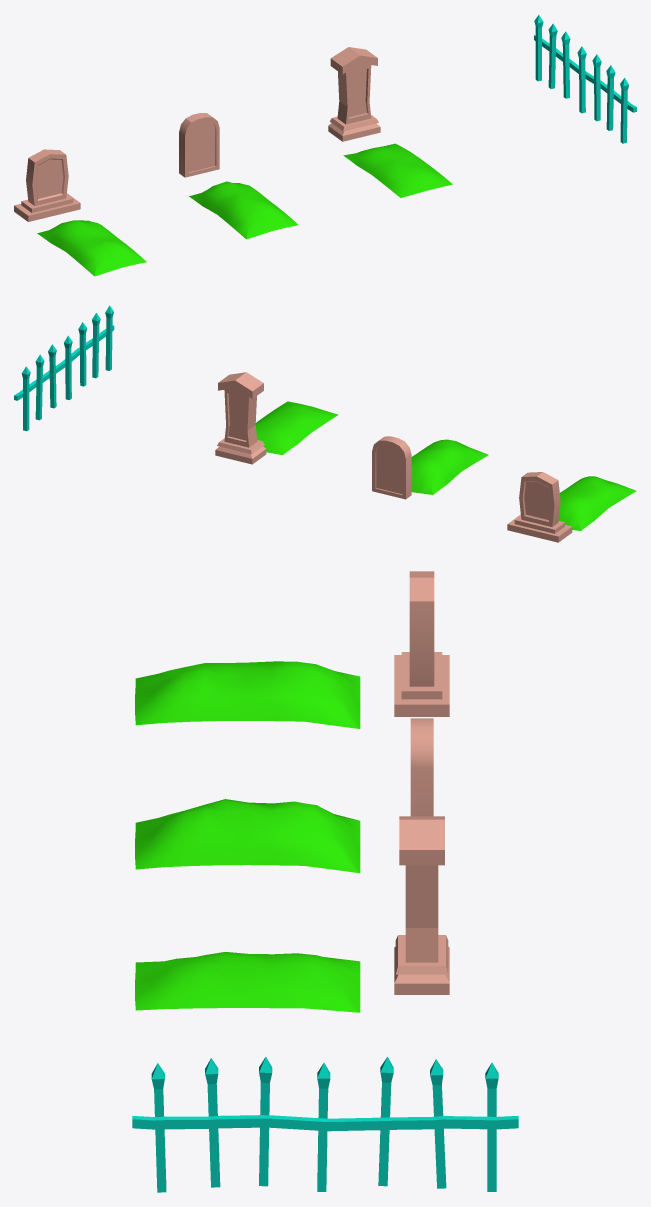
File: Horizon_Graves_Fence.fbx
The picture shows the model from 3 angles, top to bottom: view 1: azimuth 30°, elevation 25°; view 2: azimuth 150°, elevation 25°; view 3: azimuth 270°, elevation 25°; orthographic projection. The views are drawn at different scales.
Parts seen in each view (by area): view 1: Grave03, Grave01.001, Grave02, Graveyard Fence; view 2: Grave03, Grave01.001, Grave02, Graveyard Fence; view 3: Grave03, Grave01.001, Grave02, Graveyard Fence.
Part boxes in pixels (box(x1,y1,x2,y2)): Grave03: box(328, 47, 452, 197); Grave01.001: box(14, 149, 146, 276); Grave02: box(179, 113, 298, 239); Graveyard Fence: box(534, 15, 636, 143); Grave03: box(215, 372, 338, 464); Grave01.001: box(507, 472, 636, 542); Grave02: box(372, 436, 488, 499); Graveyard Fence: box(14, 305, 114, 431); Grave03: box(135, 816, 449, 1012); Grave01.001: box(135, 571, 449, 728); Grave02: box(135, 718, 433, 873); Graveyard Fence: box(132, 1057, 518, 1192).
Bounding box in the file's own units: 951 × 155 × 302.
